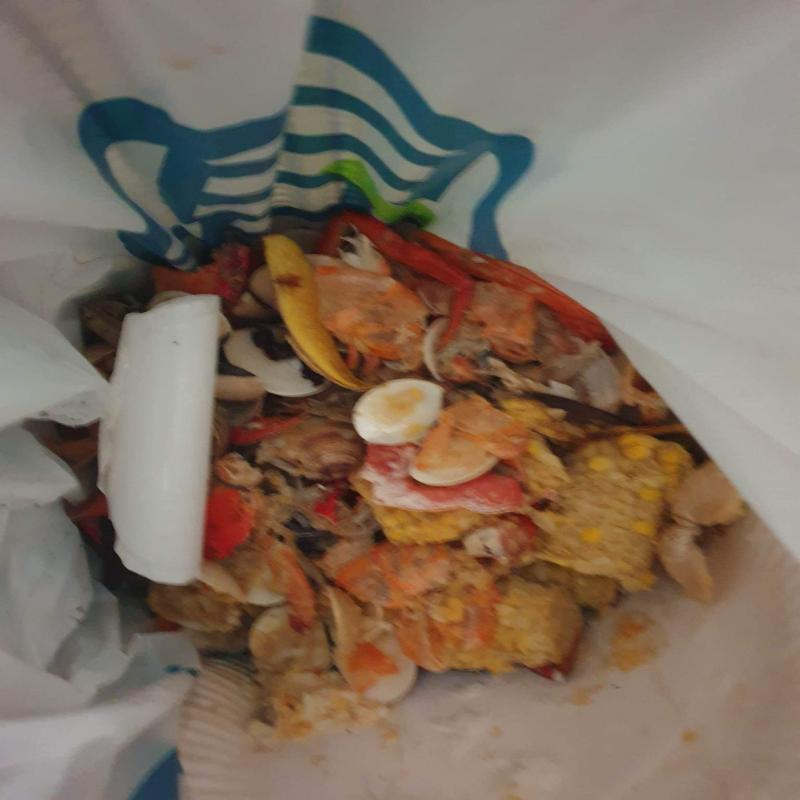left-over food: (145, 209, 746, 741)
